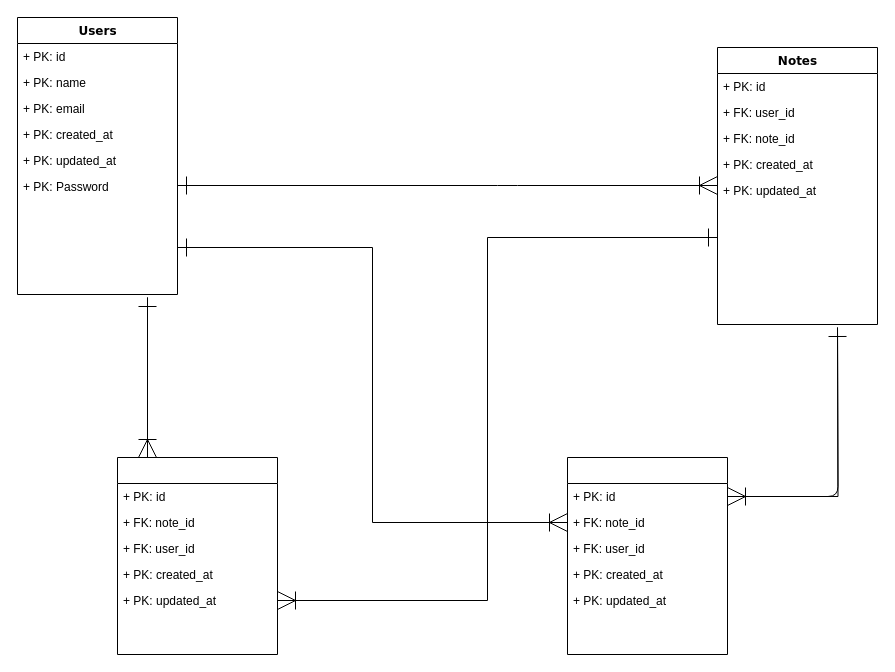
This 895x672 diagram has some shape labels left out. Here are the shapes that lost their labels. From the top down, the box of each, then its label:
(116, 456, 278, 654): Like
(566, 456, 728, 654): Comments
